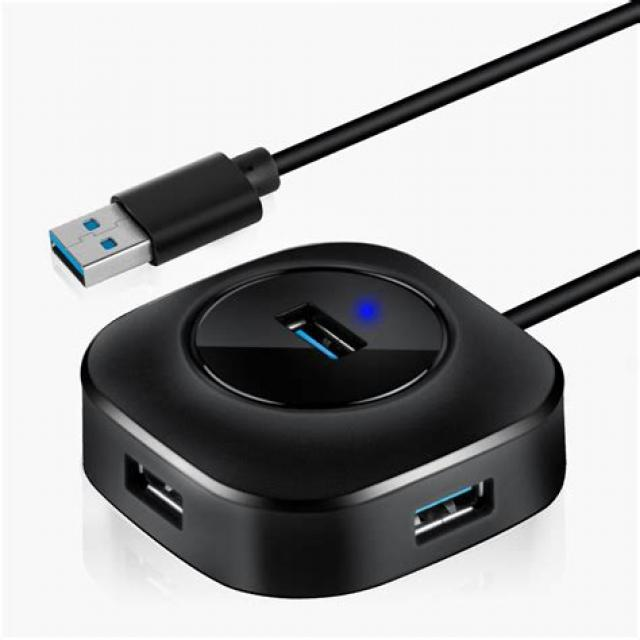usb port: (123, 447, 188, 527), (282, 301, 365, 363), (404, 482, 499, 535)
